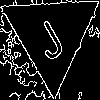J: (26, 10, 68, 63)
